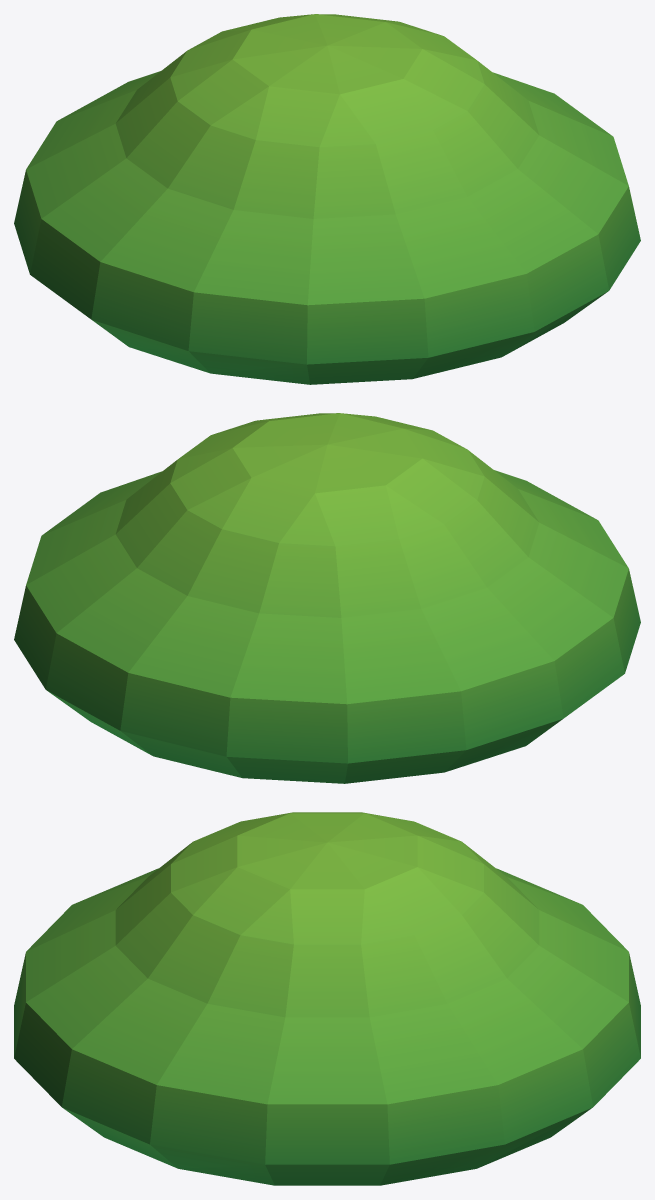
Rendered from kf_bush_3_a.fbx.
3 views of the same model, one above another, from view 1: azimuth 30°, elevation 25°; view 2: azimuth 150°, elevation 25°; view 3: azimuth 270°, elevation 25° (orthographic).
Parts seen in each view (by area): view 1: kf_bush_3_a; view 2: kf_bush_3_a; view 3: kf_bush_3_a.
Boxes of the visible parts, x1,y1,x2,y2 form: kf_bush_3_a: (14, 14, 640, 384); kf_bush_3_a: (14, 413, 640, 783); kf_bush_3_a: (14, 812, 640, 1185).
Bounding box in the file's own units: 1.65 × 0.7764 × 1.65.
